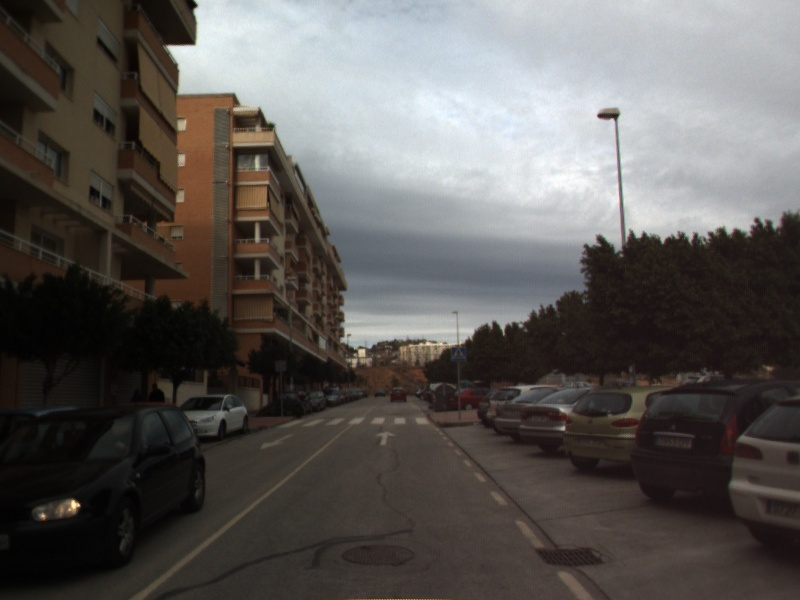STRAIGHT: (374, 429, 398, 447)
